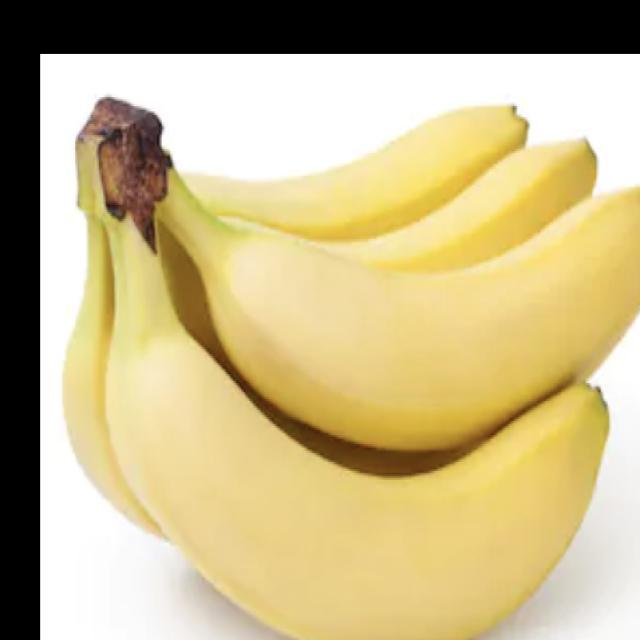Banana: (62, 93, 639, 639)
